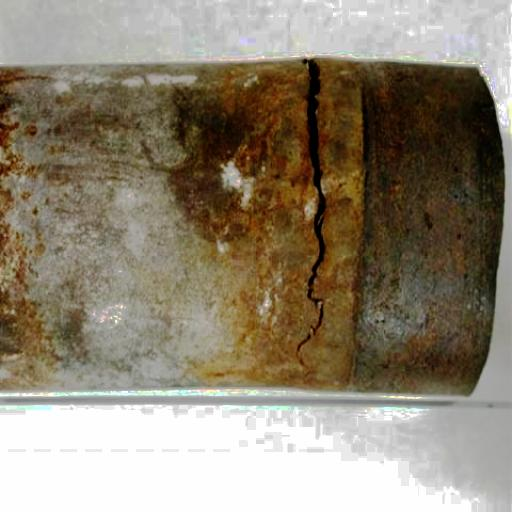crack: (289, 56, 347, 372)
